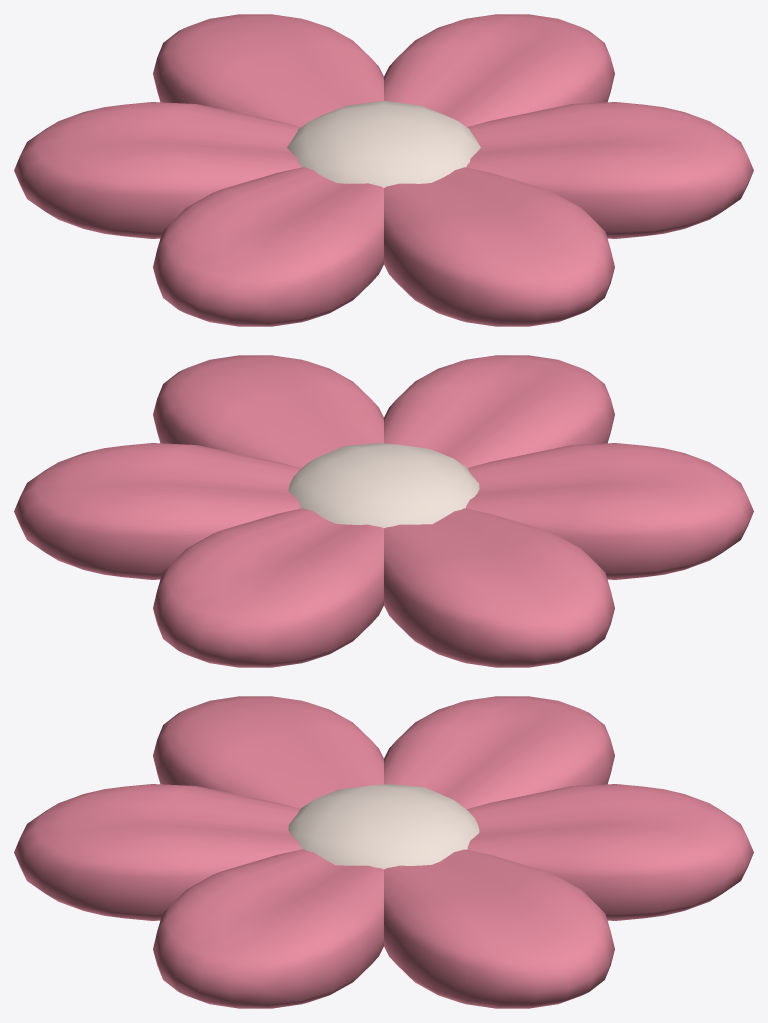
File: Pillow_9.glb
3 views of the same model, one above another, from view 1: azimuth 30°, elevation 25°; view 2: azimuth 150°, elevation 25°; view 3: azimuth 270°, elevation 25° (orthographic).
Visible parts, largest first — view 1: Pillow_9; view 2: Pillow_9; view 3: Pillow_9.
Boxes of the visible parts, bbox=[...] form: Pillow_9: bbox=[14, 14, 753, 326]; Pillow_9: bbox=[14, 355, 753, 667]; Pillow_9: bbox=[14, 696, 753, 1008].
Size of the model in its own units: 0.7155 by 0.121 by 0.8013.
1 material, 1 textured.
